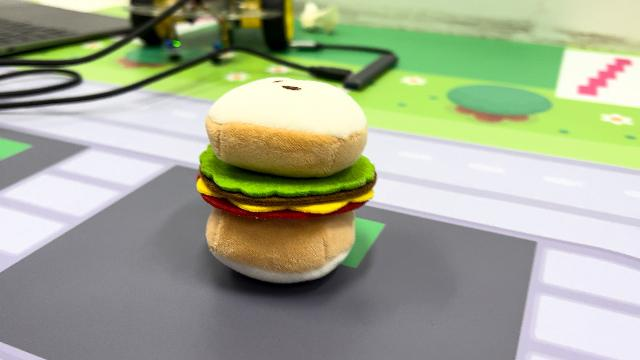sandwich: (193, 73, 379, 285)
